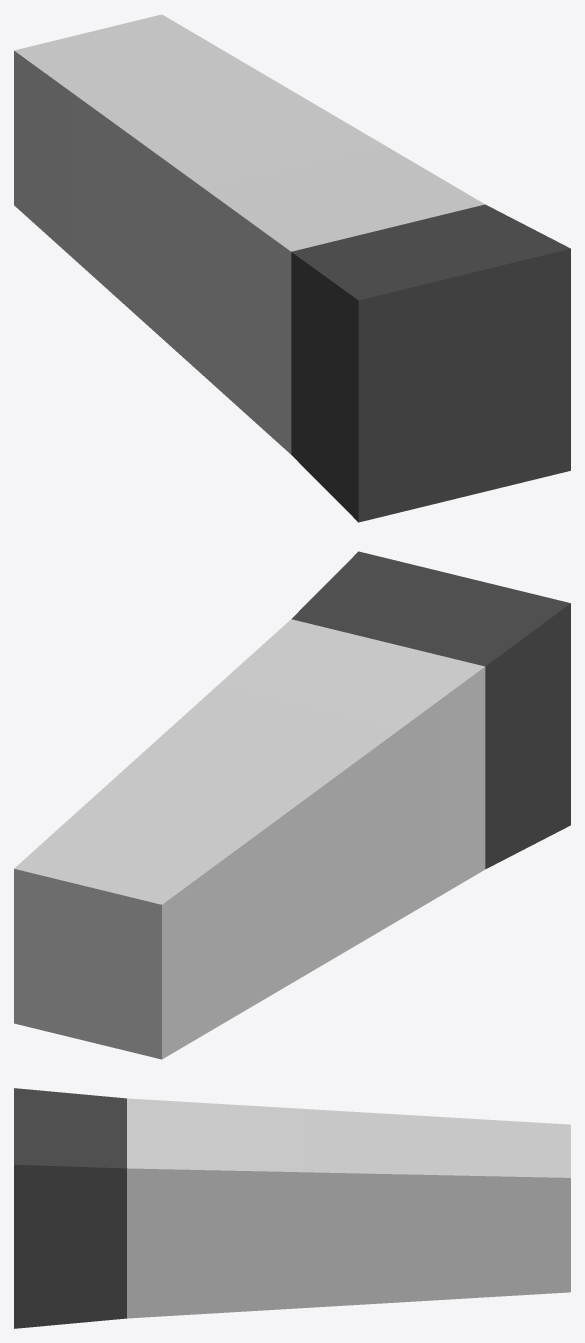
Rendered from Cigarette 01.FBX.
The picture shows the model from 3 angles, top to bottom: view 1: azimuth 30°, elevation 25°; view 2: azimuth 150°, elevation 25°; view 3: azimuth 270°, elevation 25°; orthographic projection. The views are drawn at different scales.
Visible parts, largest first — view 1: Cigarette 01; view 2: Cigarette 01; view 3: Cigarette 01.
Part boxes in pixels (box(x1,y1,x2,y2)): Cigarette 01: box(14, 14, 570, 522); Cigarette 01: box(14, 551, 570, 1059); Cigarette 01: box(14, 1088, 570, 1328).
Bounding box in the file's own units: 4.71 × 4.71 × 14.48.
